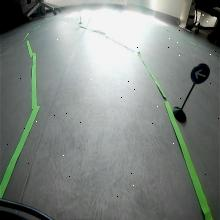left: (191, 63, 209, 85)
